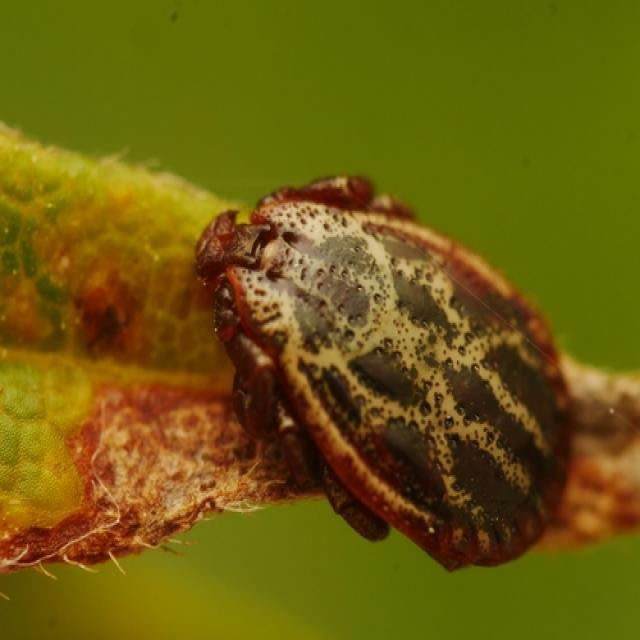Dermacentor Reticulatus-M: (195, 174, 581, 576)
